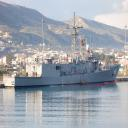Fragata: (2, 10, 123, 91)
